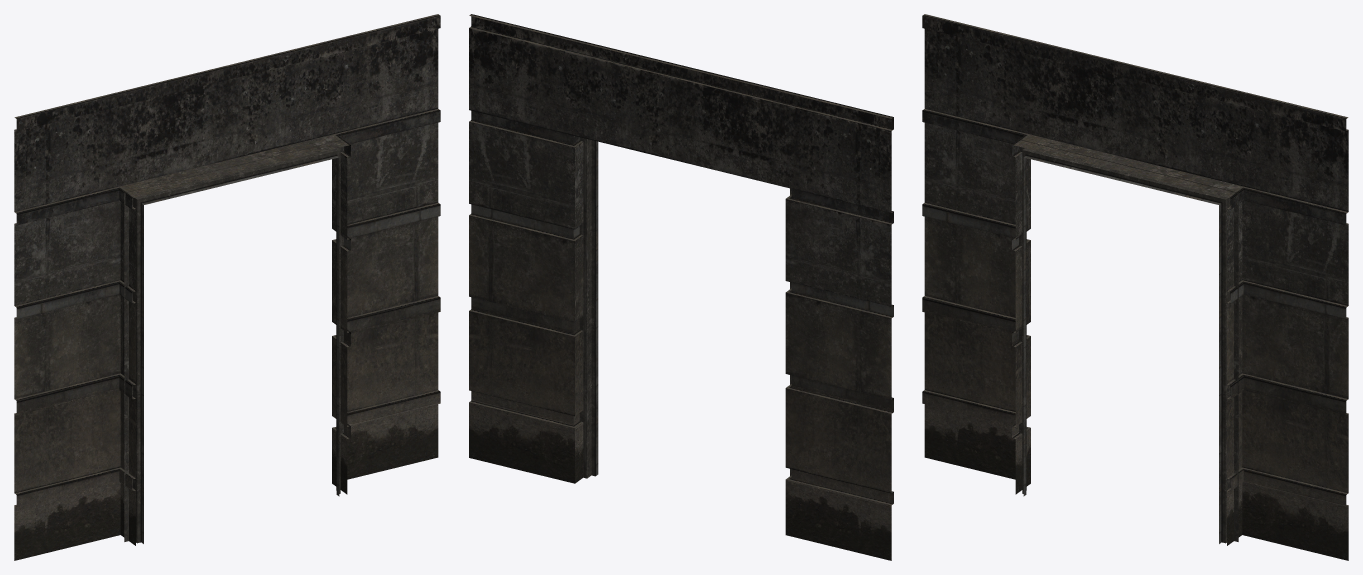
The model's file is tunnel_doorway.DAE.
3 views of the same model, side by side, from view 1: azimuth 30°, elevation 25°; view 2: azimuth 150°, elevation 25°; view 3: azimuth 330°, elevation 25° (orthographic).
Parts seen in each view (by area): view 1: tunnels_doorway; view 2: tunnels_doorway; view 3: tunnels_doorway.
Boxes of the visible parts, x1,y1,x2,y2 form: tunnels_doorway: (14, 14, 440, 560); tunnels_doorway: (469, 14, 893, 560); tunnels_doorway: (922, 14, 1348, 560).
Size of the model in its own units: 4 by 0.25 by 4.
